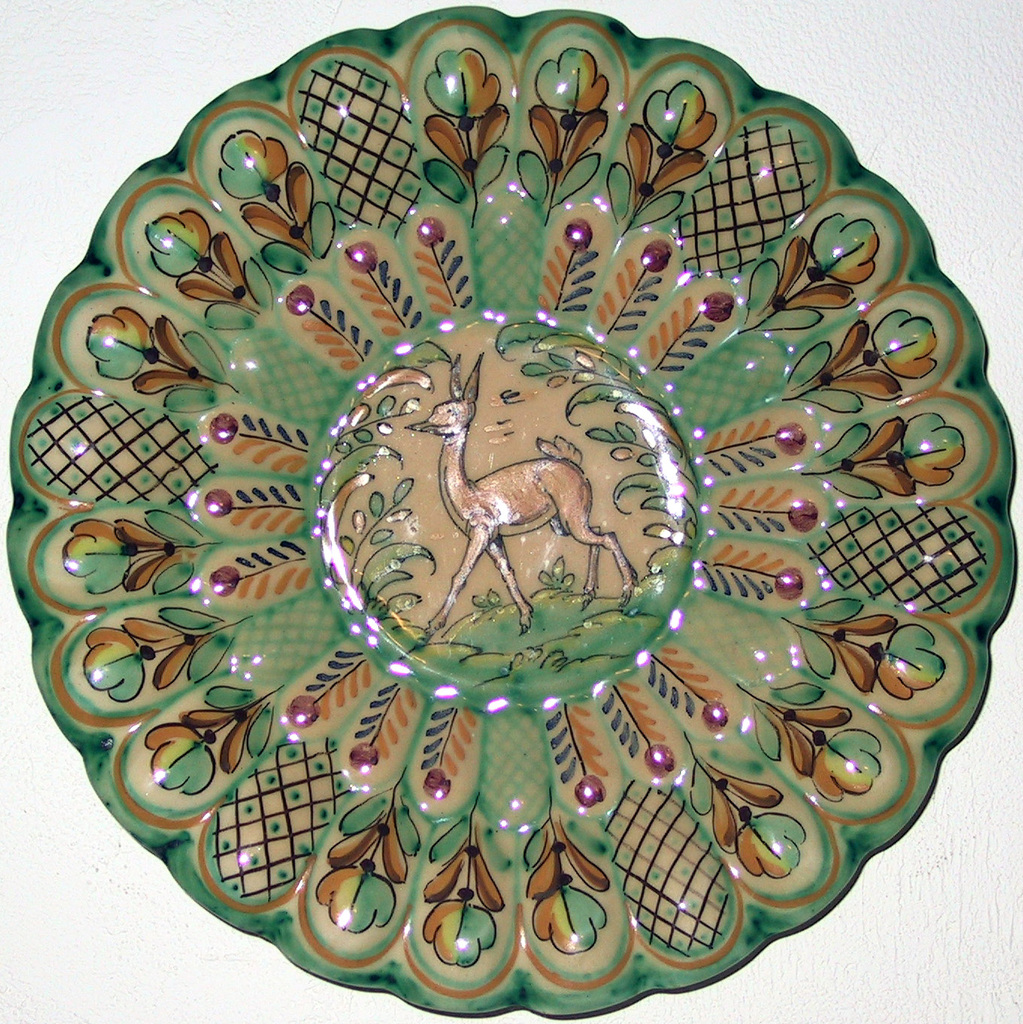plate: (5, 4, 1014, 1019)
